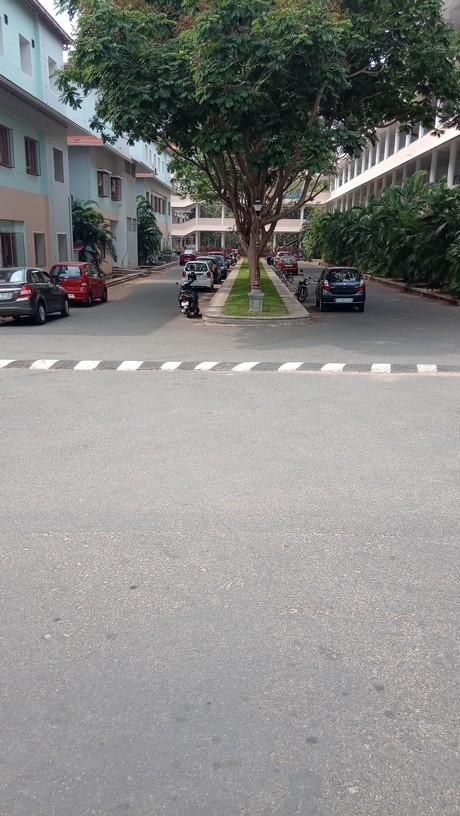speed-bump: (2, 358, 460, 375)
